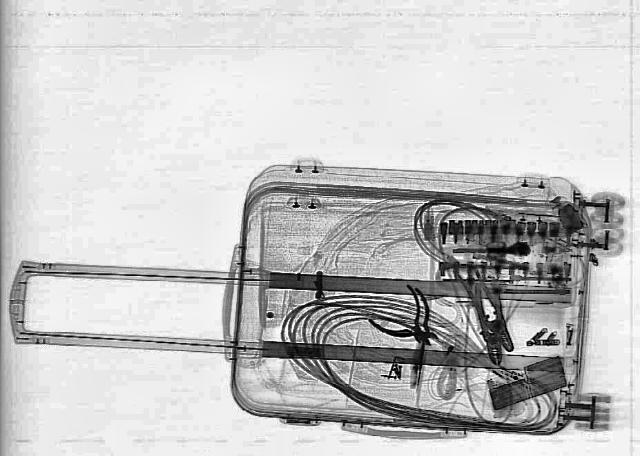Pliers: (354, 284, 464, 356), (362, 288, 466, 354), (450, 264, 524, 354), (471, 282, 511, 365)
